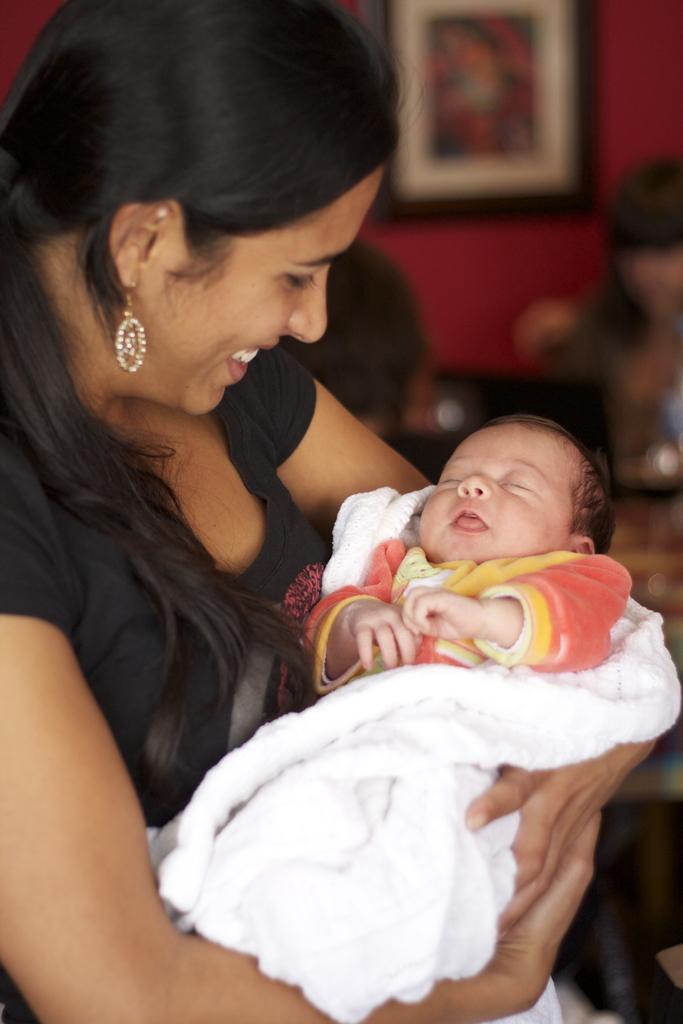Human-face: (130, 171, 377, 412), (416, 416, 579, 572)
